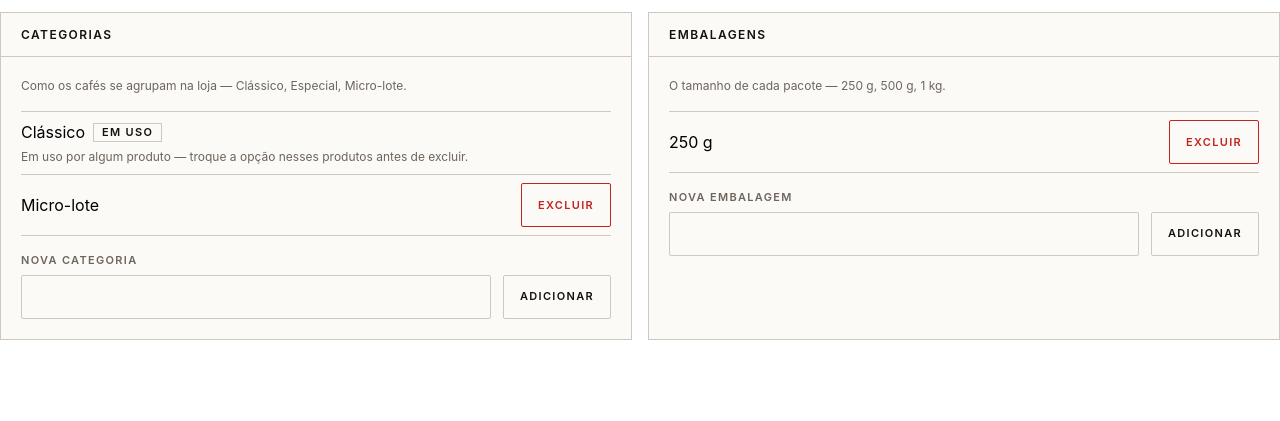
Scenario: acrescentar › o 409 do servidor chega INTEIRO à tela
This screenshot has width=1280, height=421.
Type "Clássico" into the field labelled "Nova categoria". click: (256, 296)
box: [21,274,491,318]
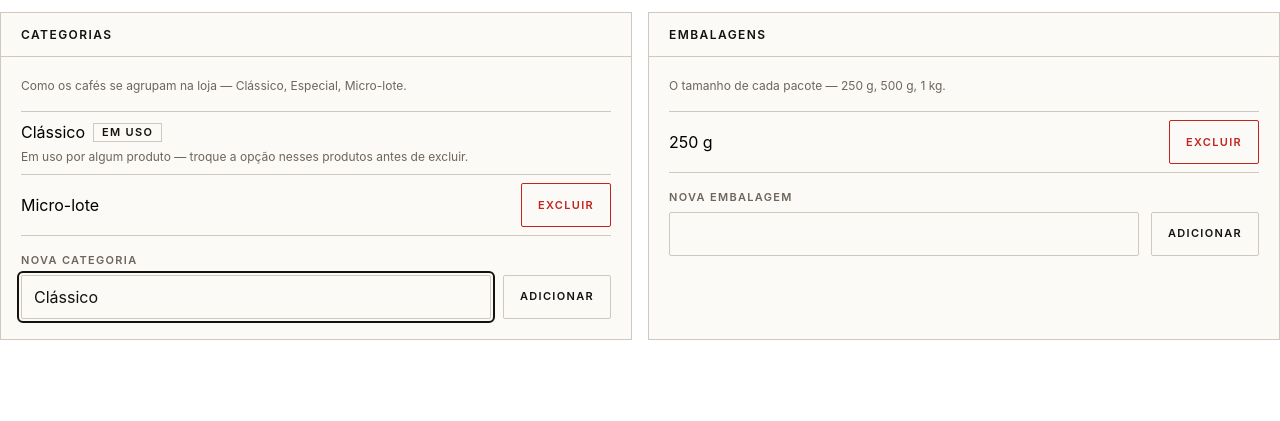
Click the 2nd button "Adicionar". click: (557, 296)
box: [503,274,611,318]
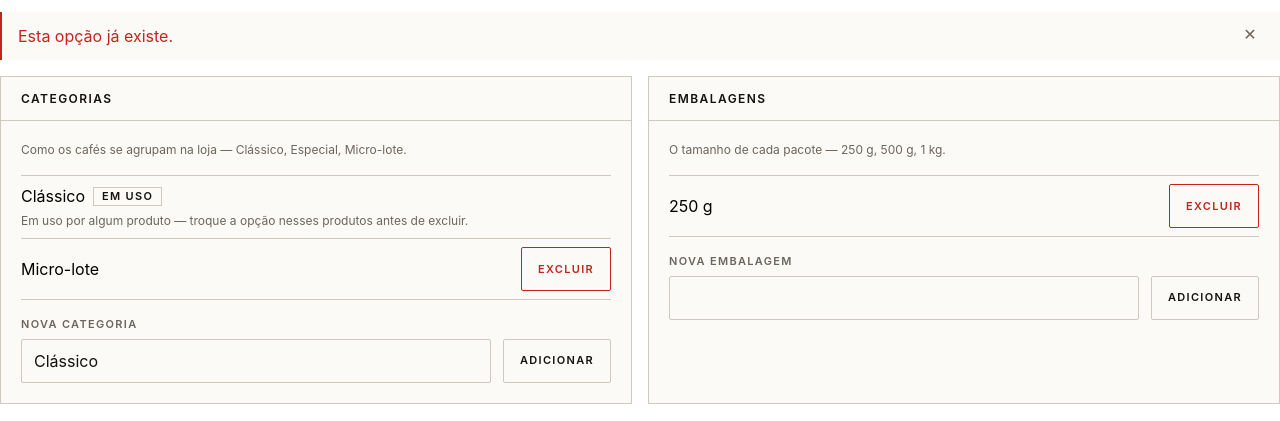
Expected: the text "Esta opção já existe." is shown, [18,26,173,46]
